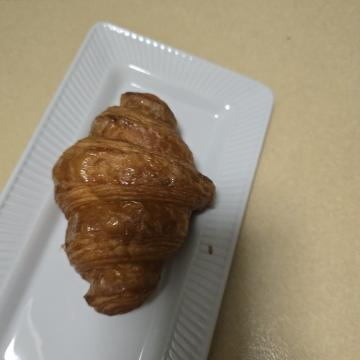croissant: (82, 138, 322, 316)
